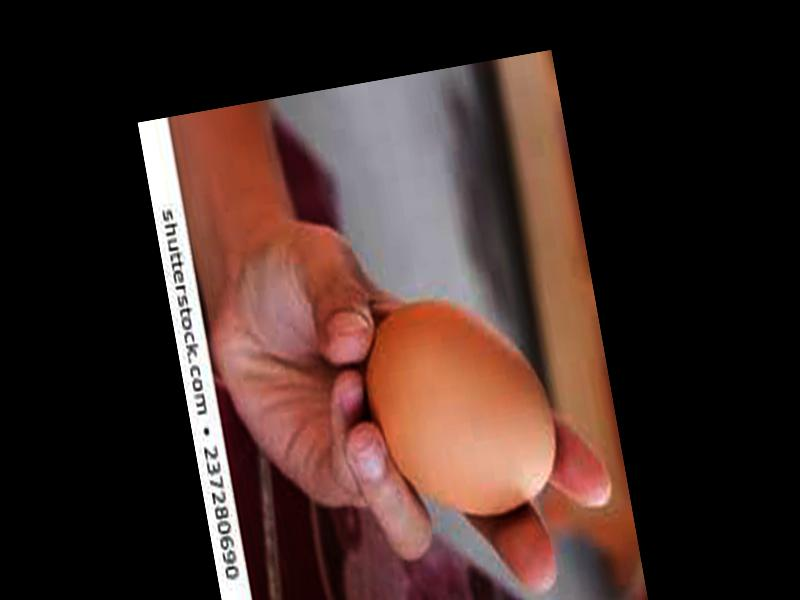Eggs: (354, 285, 567, 536)
